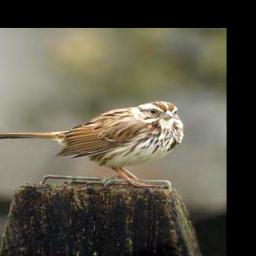Sparrow: (0, 100, 184, 188)
